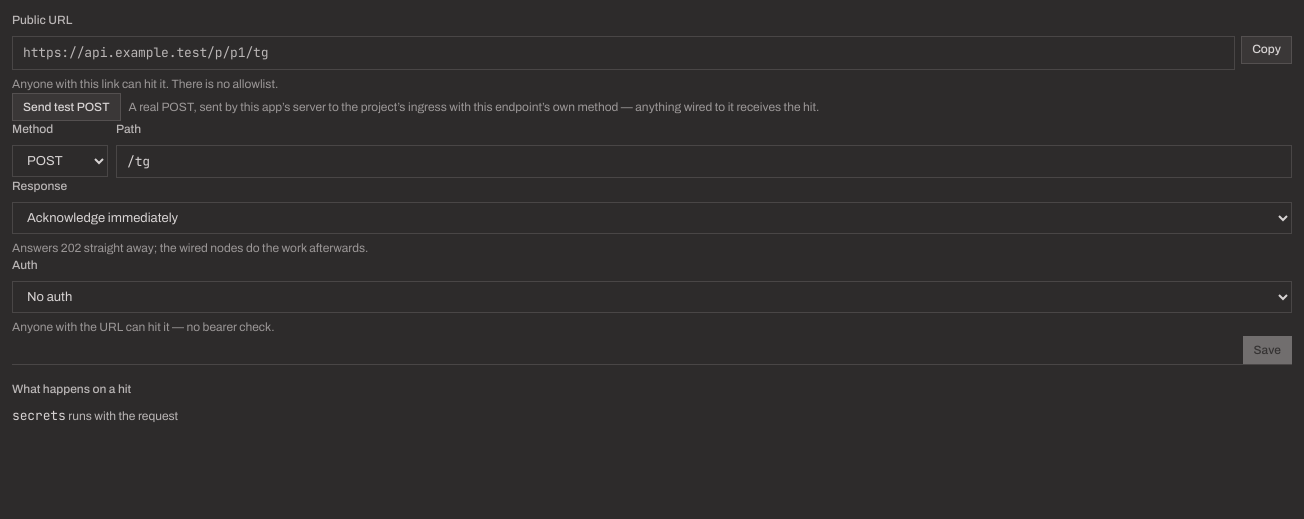
bearer auth › lets bearer be picked once a vault is wired, and offers its keys
Select "Bearer token" in the dropdown with test id "inspector-endpoint-auth-mode" at (652, 297), box [12,281,1292,313]
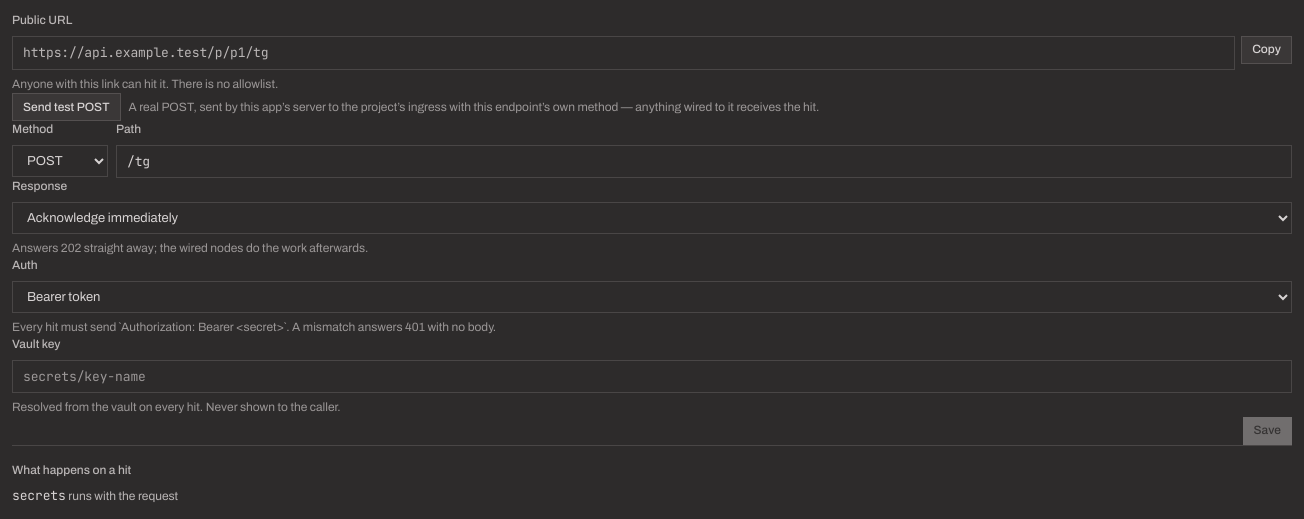
Check: the field with test id "inspector-endpoint-auth-vault-ref" is shown, box [12,360,1292,393]
